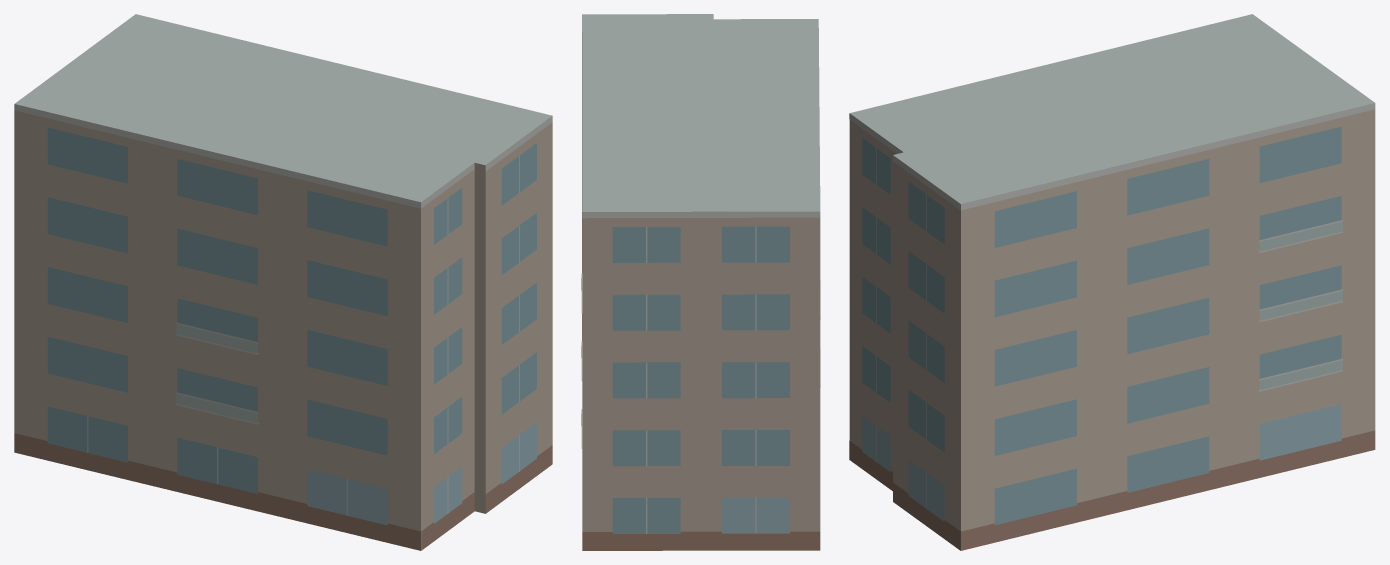
File: survey-upis-32592344.glb
3 renders of one model, left to right at view 1: azimuth 30°, elevation 25°; view 2: azimuth 150°, elevation 25°; view 3: azimuth 270°, elevation 25°, orthographic. The views are drawn at different scales.
Parts seen in each view (by area): view 1: survey-upis-32592344.tmp; view 2: survey-upis-32592344.tmp; view 3: survey-upis-32592344.tmp.
Part boxes in pixels (x1,y1,x2,y2): survey-upis-32592344.tmp: [14, 14, 552, 550]; survey-upis-32592344.tmp: [581, 14, 820, 550]; survey-upis-32592344.tmp: [849, 14, 1375, 550].
Size of the model in its own units: 15.83 by 13.45 by 18.49.
